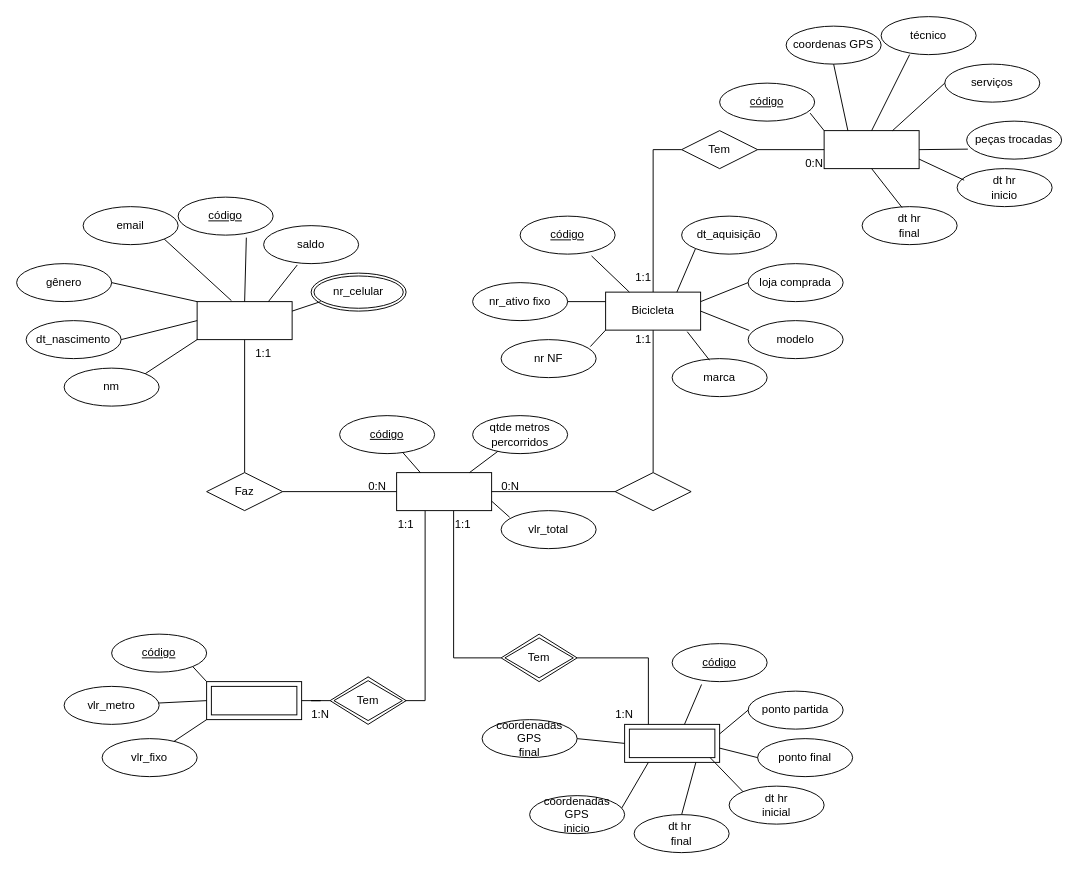
The diagram is 1078 pixels wide and 869 high, and some of its shapes have lost their labels. Here are the shapes that lost their labels. From the top down, the centre of each, then its label:
At [871,149]: "Revisão".
At [244,320]: "Cliente".
At [444,491]: "Locação".
At [652,491]: "está".
At [254,700]: "Locação Tb-Preço".
At [672,742]: "Locação Parada".
